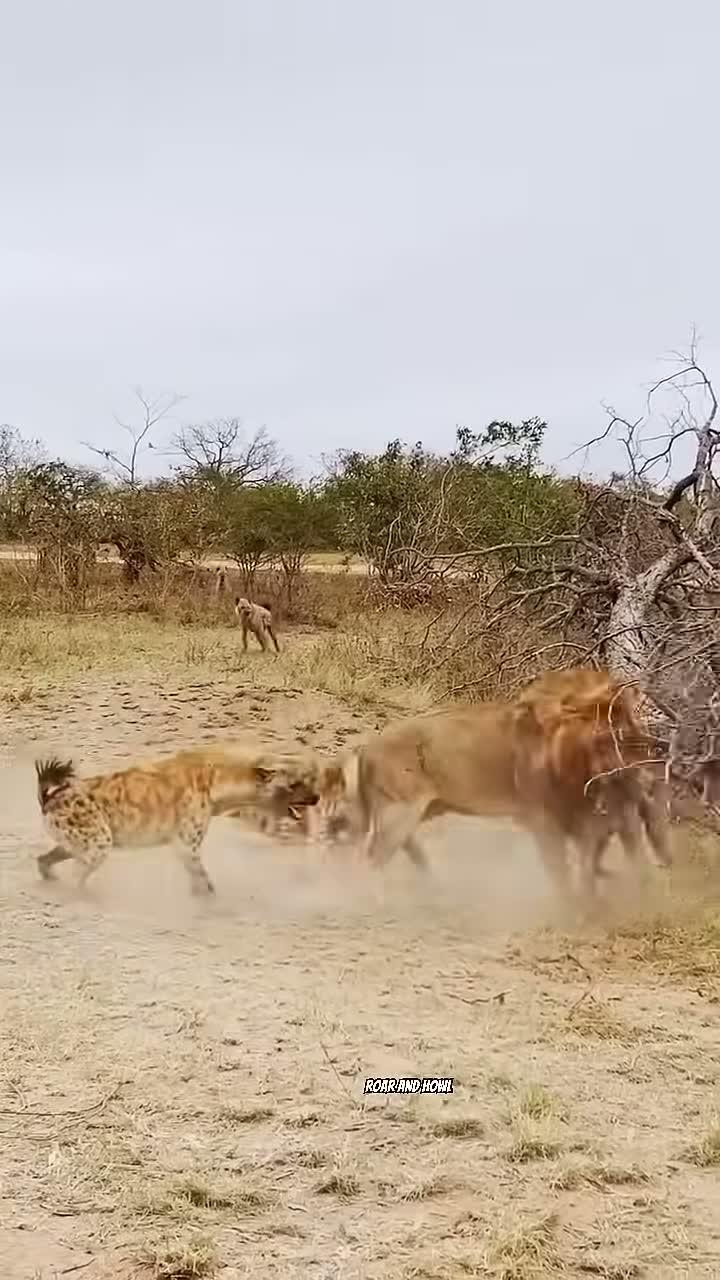hyenas: (10, 698, 329, 911)
lions: (353, 656, 720, 906)
